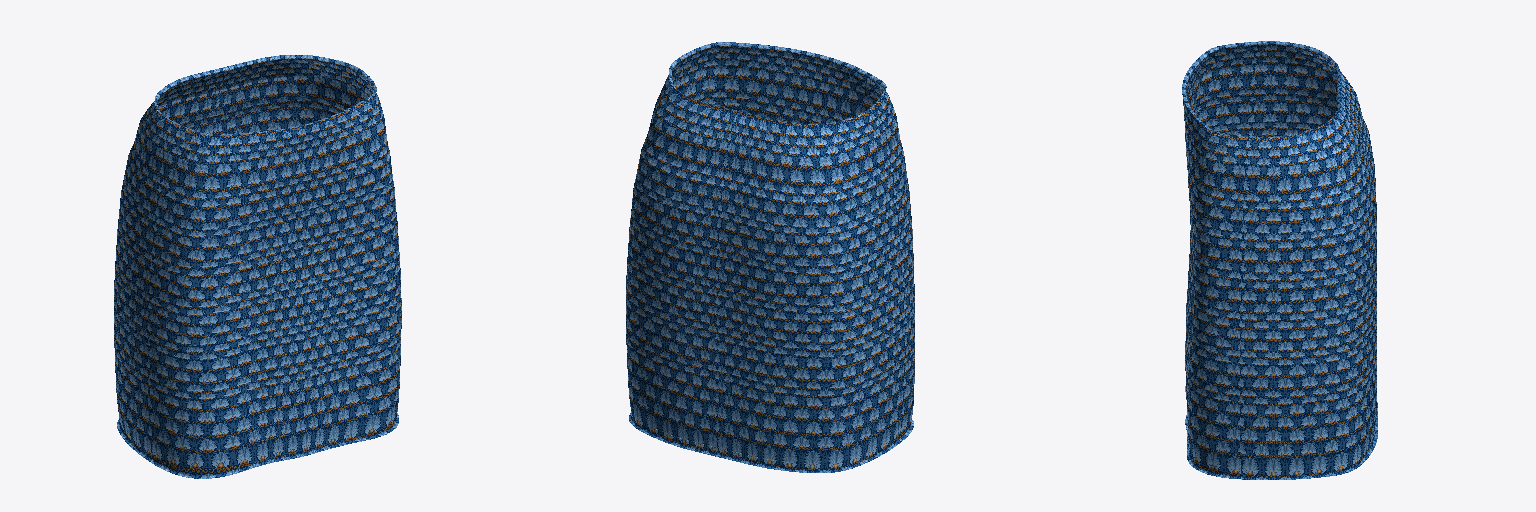
3 renders of one model, left to right at view 1: azimuth 30°, elevation 25°; view 2: azimuth 150°, elevation 25°; view 3: azimuth 270°, elevation 25°, orthographic.
Visible parts, largest first — view 1: A3skirt01; view 2: A3skirt01; view 3: A3skirt01.
Boxes of the visible parts, x1=… form: A3skirt01: x1=114, y1=55, x2=401, y2=478; A3skirt01: x1=626, y1=42, x2=914, y2=472; A3skirt01: x1=1182, y1=41, x2=1377, y2=479.
Size of the model in its own units: 0.2646 by 0.3419 by 0.1815.
Materials: 1 (1 with a texture image).